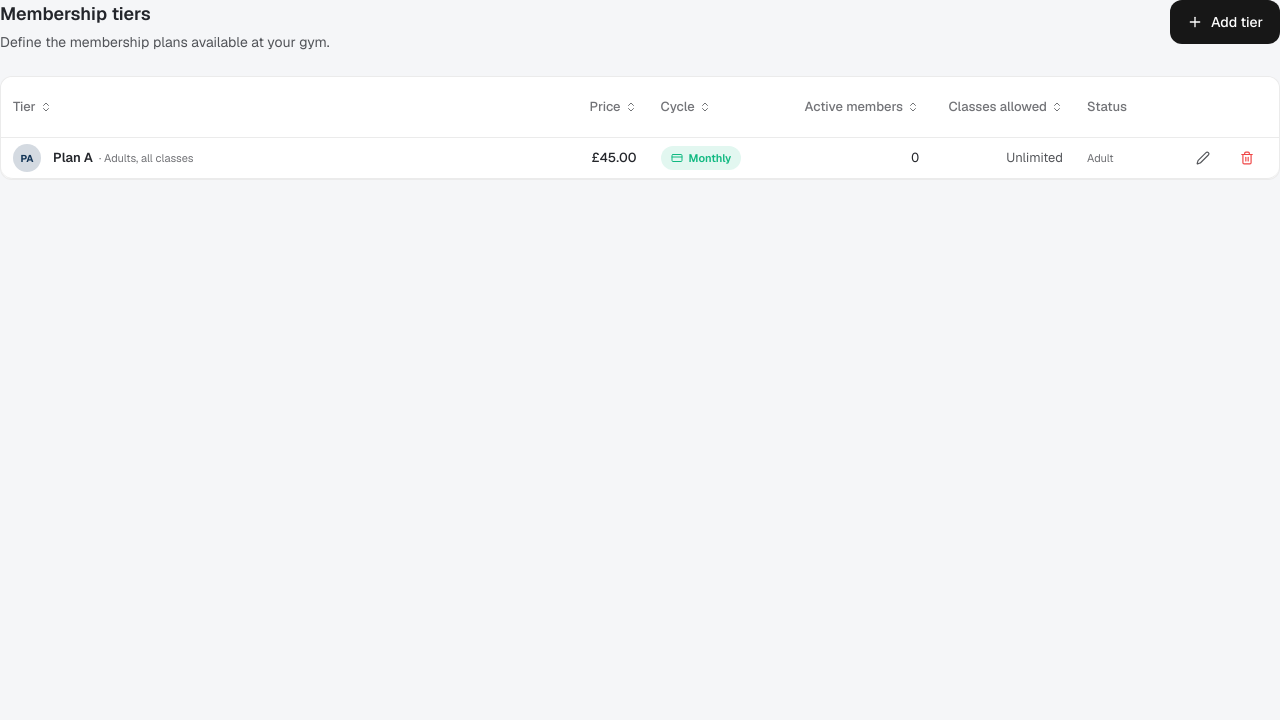
Test: Description in the tier editor › opens with the stored description
Step 1. Click the button named "Edit Plan A" → (1203, 158), box [1183,142,1223,174]
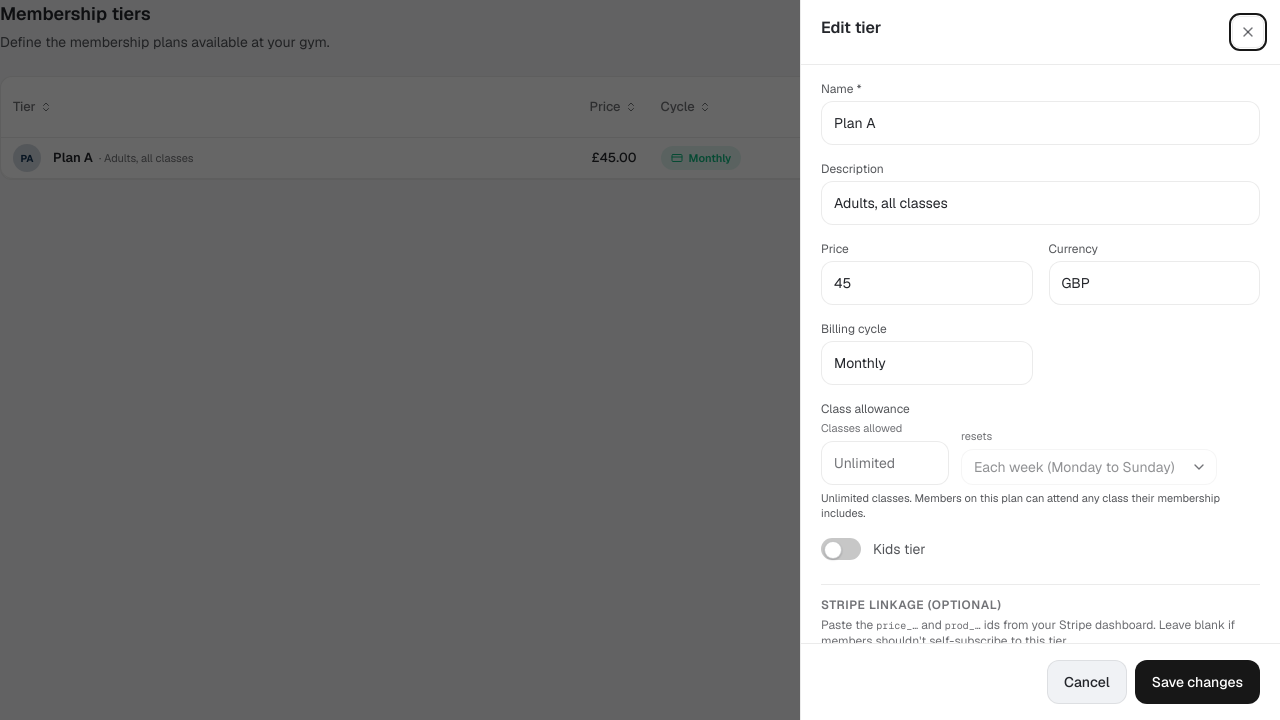
Expected: the field labelled "Description" holds "Adults, all classes", [821,181,1260,225]
